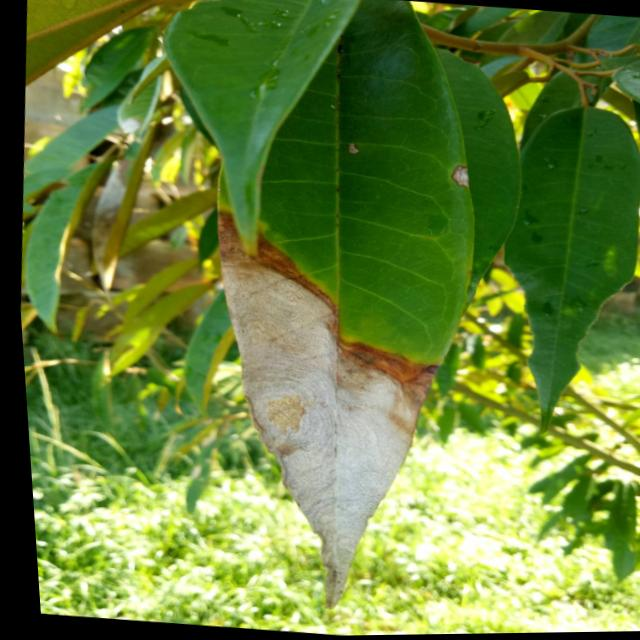Leaf Blight: (191, 225, 463, 608)
